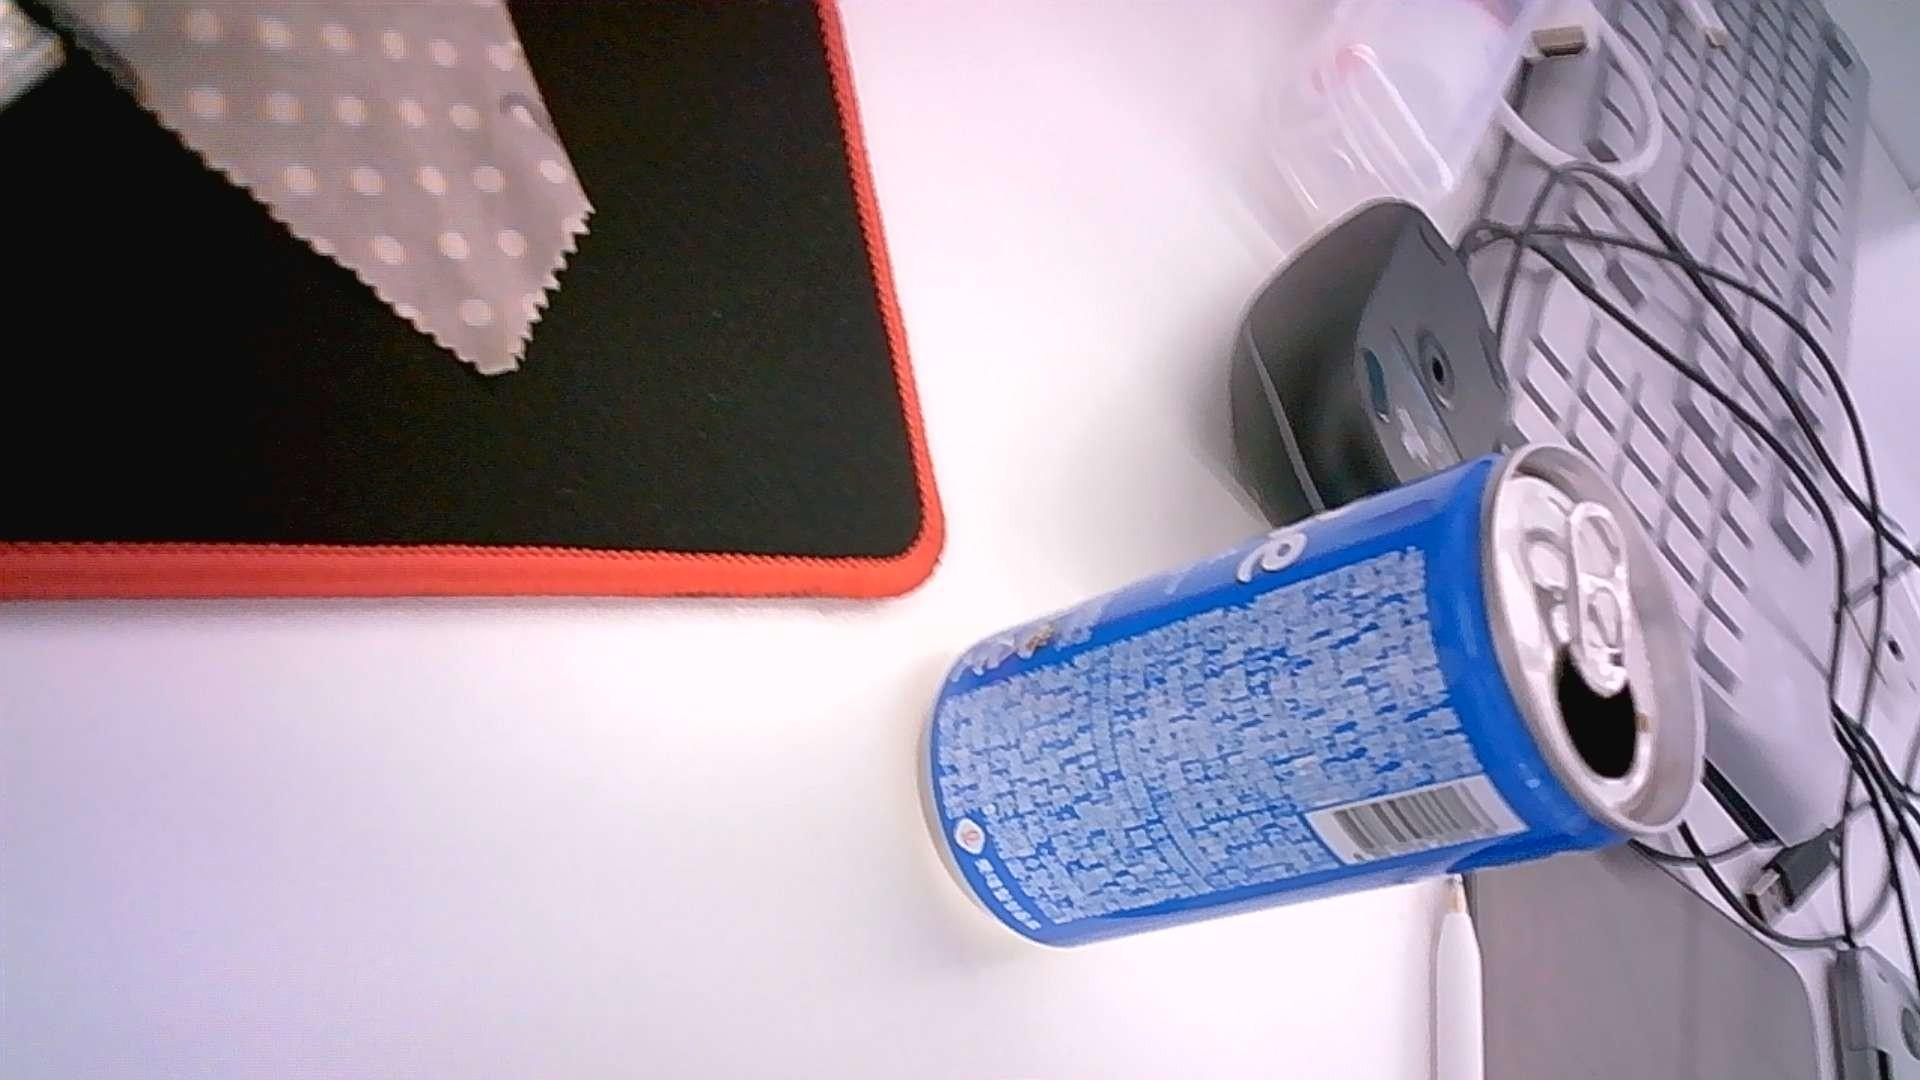letsbe: (920, 442, 1706, 949)
